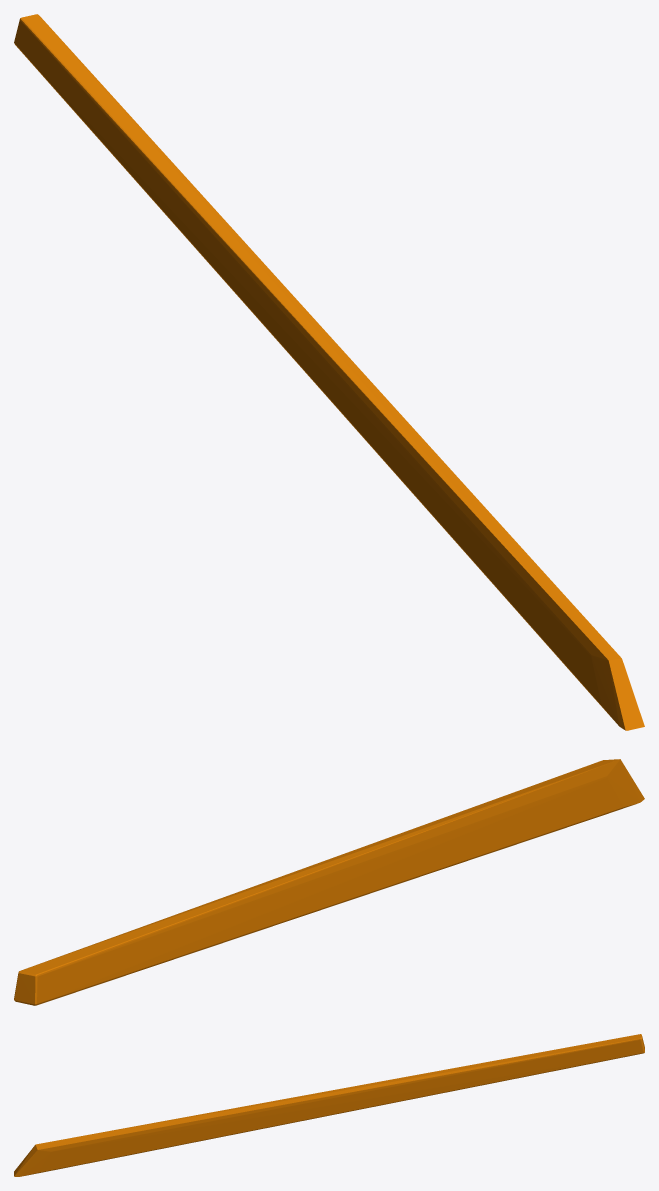
Rendered from hockey_stick_robot_base_coll_2.dae.
3 views of the same model, one above another, from view 1: azimuth 30°, elevation 25°; view 2: azimuth 150°, elevation 25°; view 3: azimuth 270°, elevation 25° (orthographic). The views are drawn at different scales.
Parts seen in each view (by area): view 1: Node_0x7fe69193bb40; view 2: Node_0x7fe69193bb40; view 3: Node_0x7fe69193bb40.
Boxes of the visible parts, bbox=[...] form: Node_0x7fe69193bb40: bbox=[14, 14, 644, 730]; Node_0x7fe69193bb40: bbox=[14, 759, 644, 1005]; Node_0x7fe69193bb40: bbox=[14, 1034, 644, 1176].
Size of the model in its own units: 0.00488 by 0.0541 by 0.2233.
